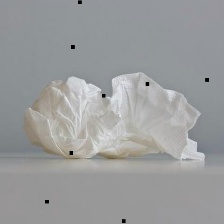tissue: (18, 65, 209, 171)
